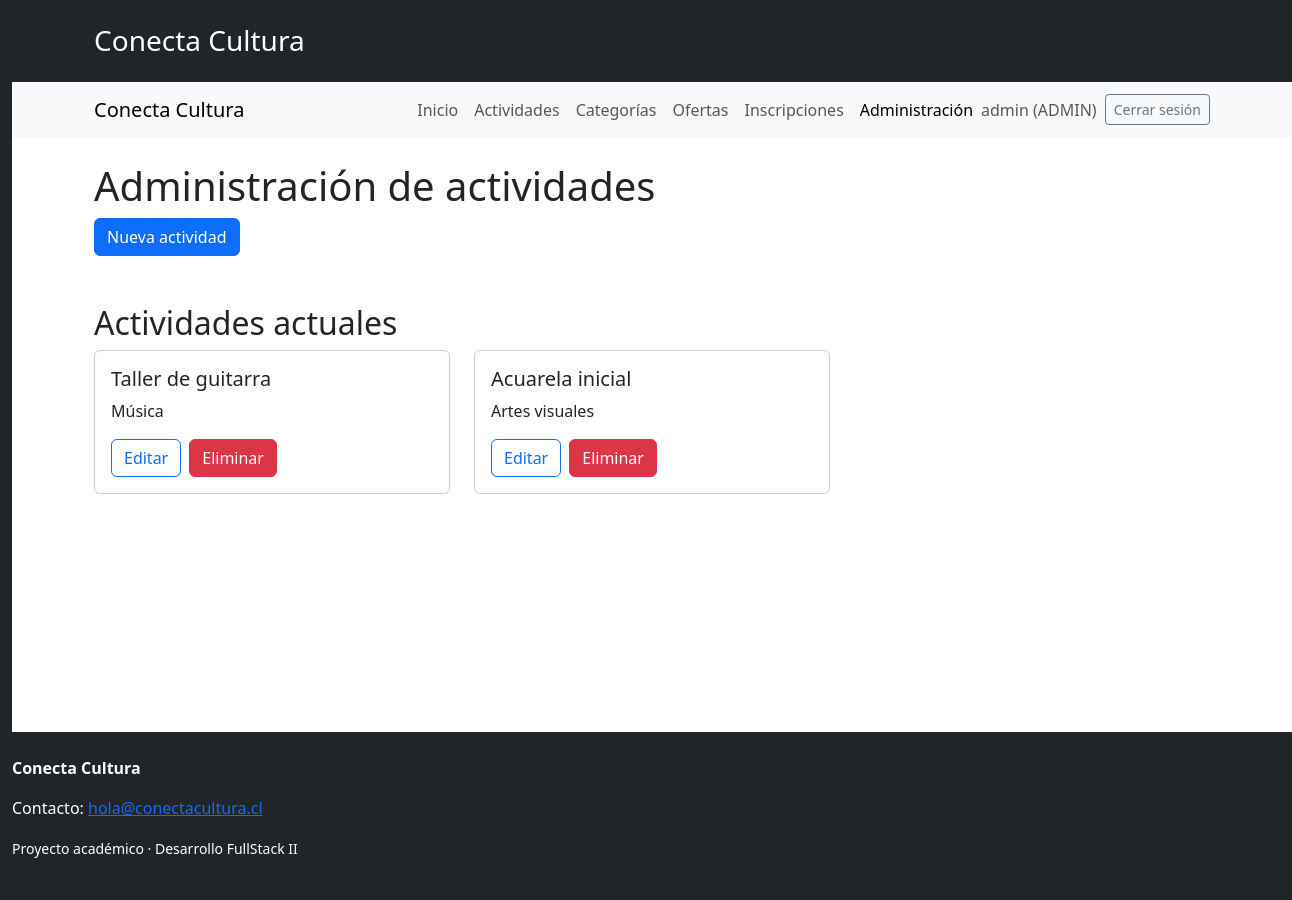
Scenario: App › permite a un ADMIN eliminar una actividad desde la administración
The image size is (1292, 900).
Click the button "Eliminar" below "Música". click: (233, 458)
box: [189,439,277,477]
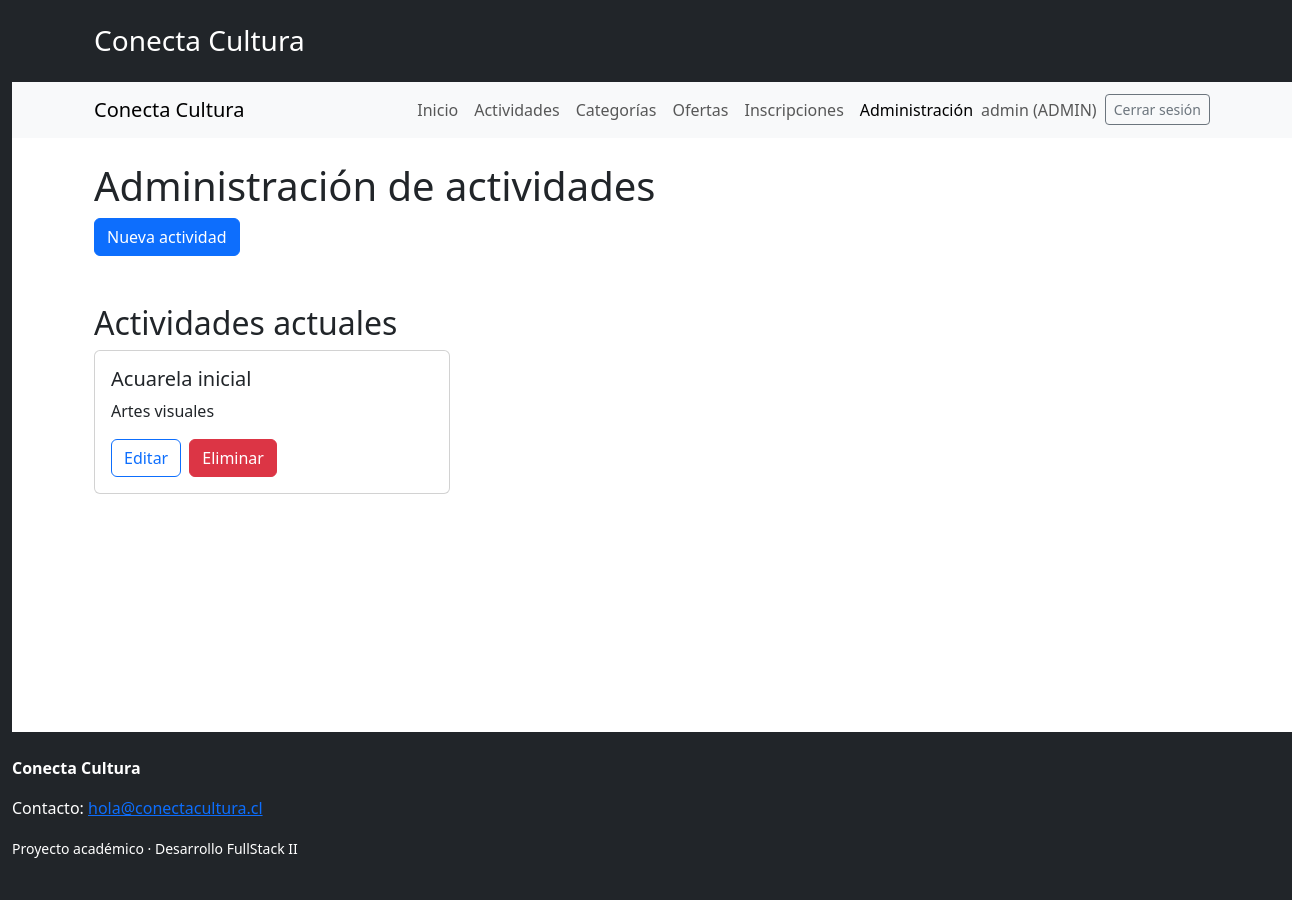
Expected: the heading "Acuarela inicial" is shown, [111,365,252,392]
Now the heading "Taller de guitarra" is gone
